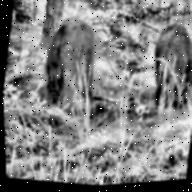boar: (24, 9, 112, 133), (141, 16, 192, 133)
